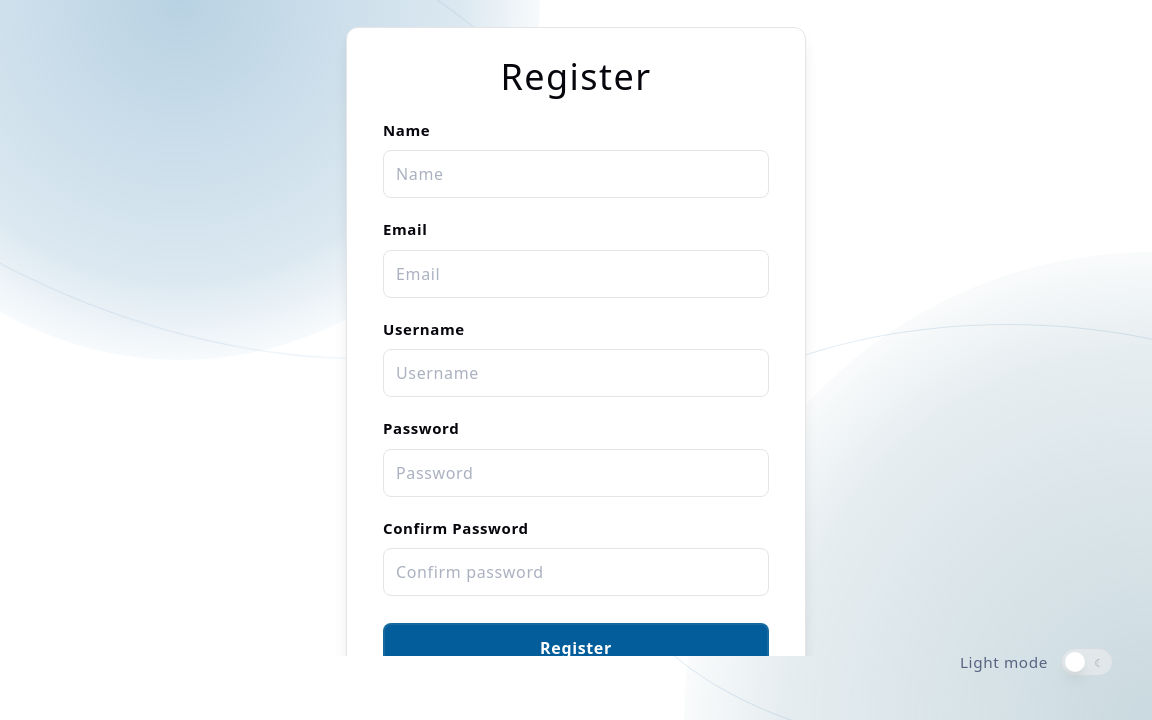
Register › sends a verification code after valid registration details
This screenshot has width=1152, height=720.
In the field with placeholder "Name": coordinates (576, 174) [383,150,769,198], type "Test User"
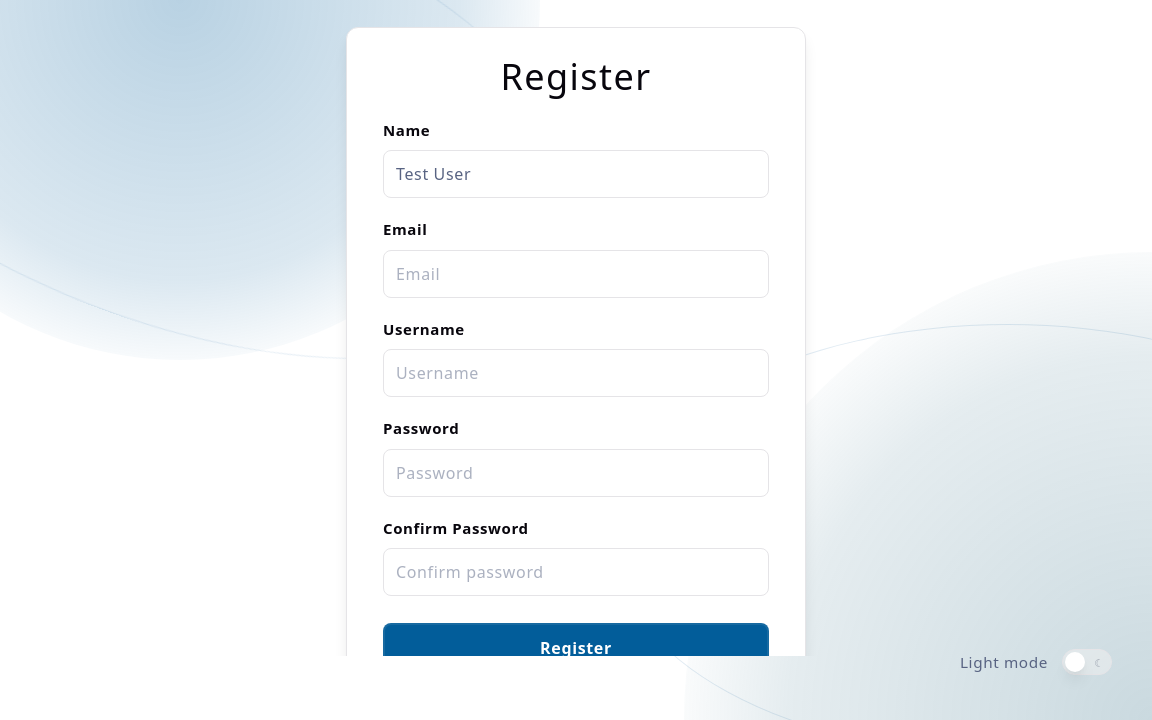
In the field with placeholder "Email": coordinates (576, 274) [383,250,769,298], type "test@example.com"
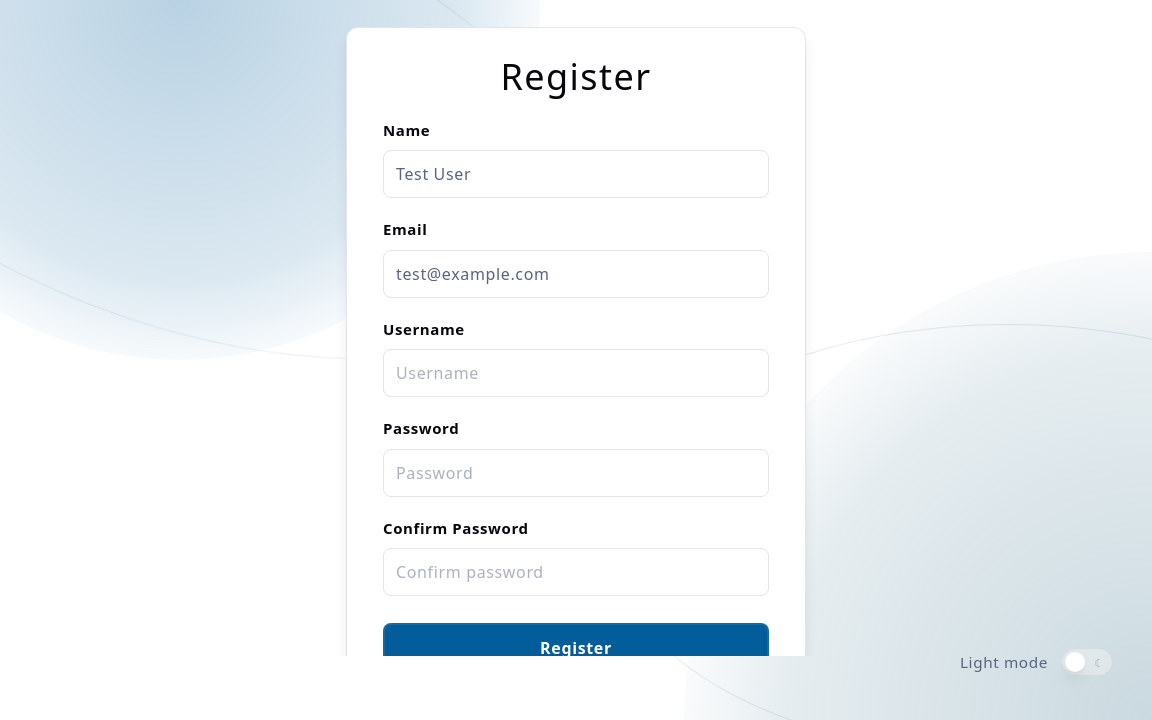
In the field with placeholder "Username": coordinates (576, 373) [383,349,769,397], type "testuser"
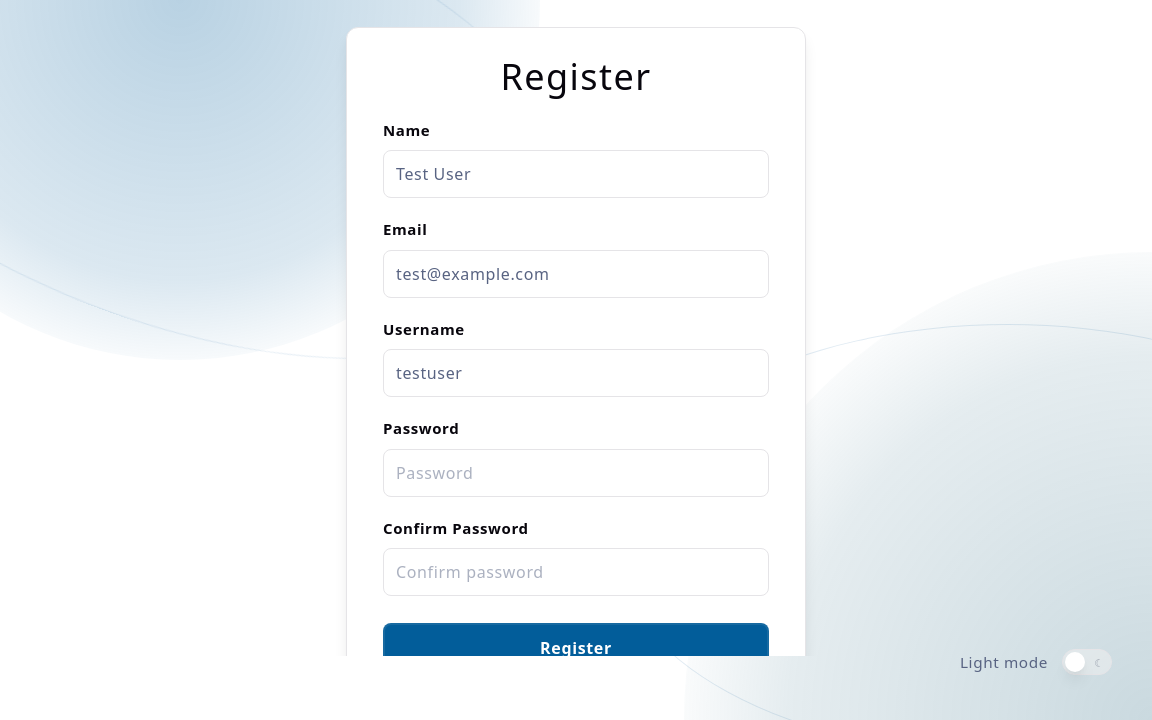
In the password field with placeholder "Password": coordinates (576, 473) [383,448,769,497], type "password123"
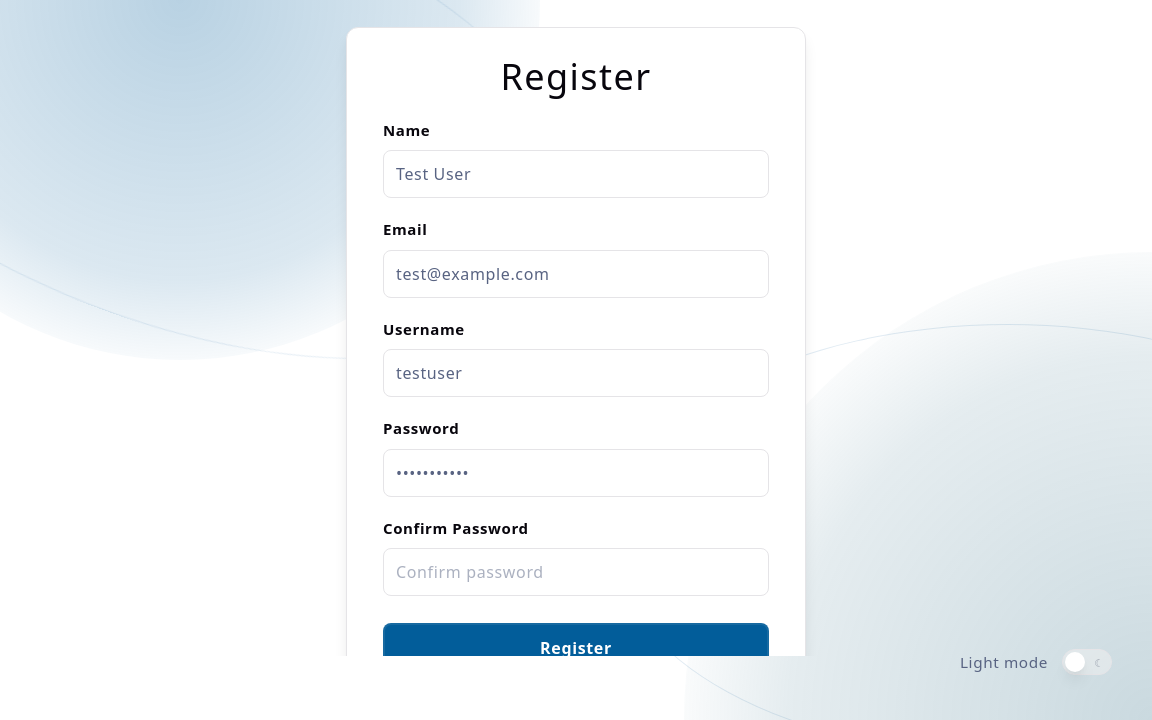
In the password field with placeholder "Confirm Password": coordinates (576, 572) [383,548,769,596], type "password123"
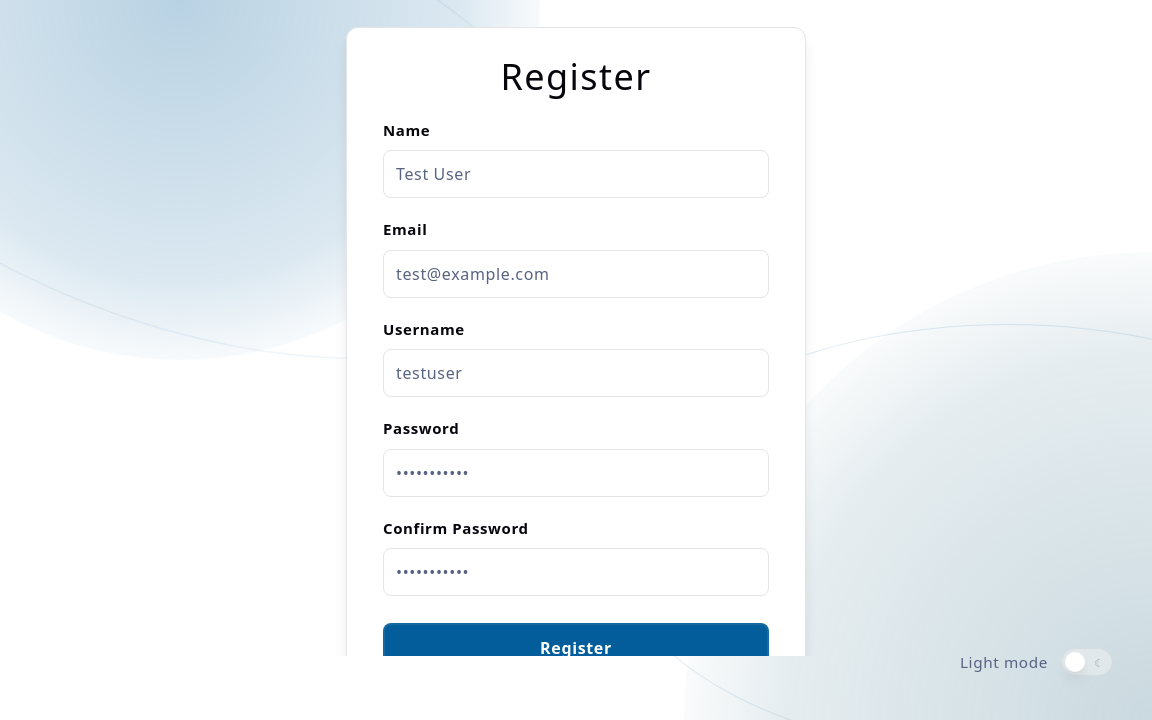
Click the button "Register": coordinates (576, 648) [383,623,769,673]
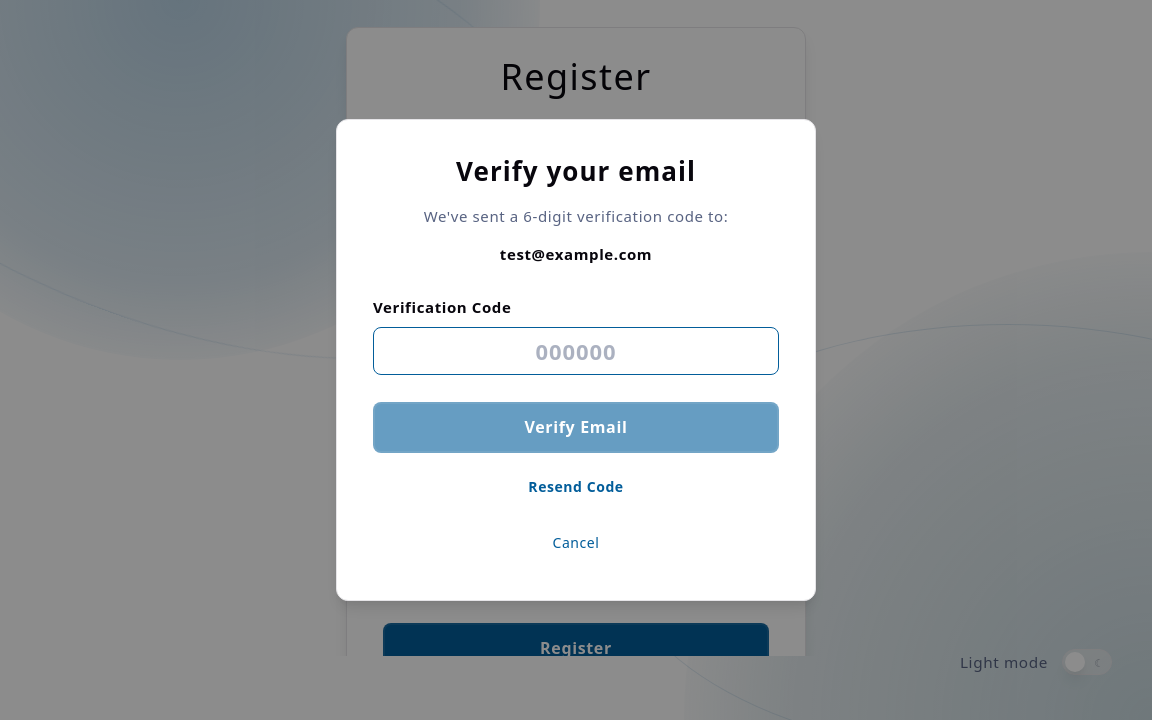
Now the heading "Verify your email" is shown, box [456,153,696,189]
Now the field with placeholder "000000" is shown, box [373,327,779,375]
Now the button "Verify Email" is shown, box [373,402,779,452]
